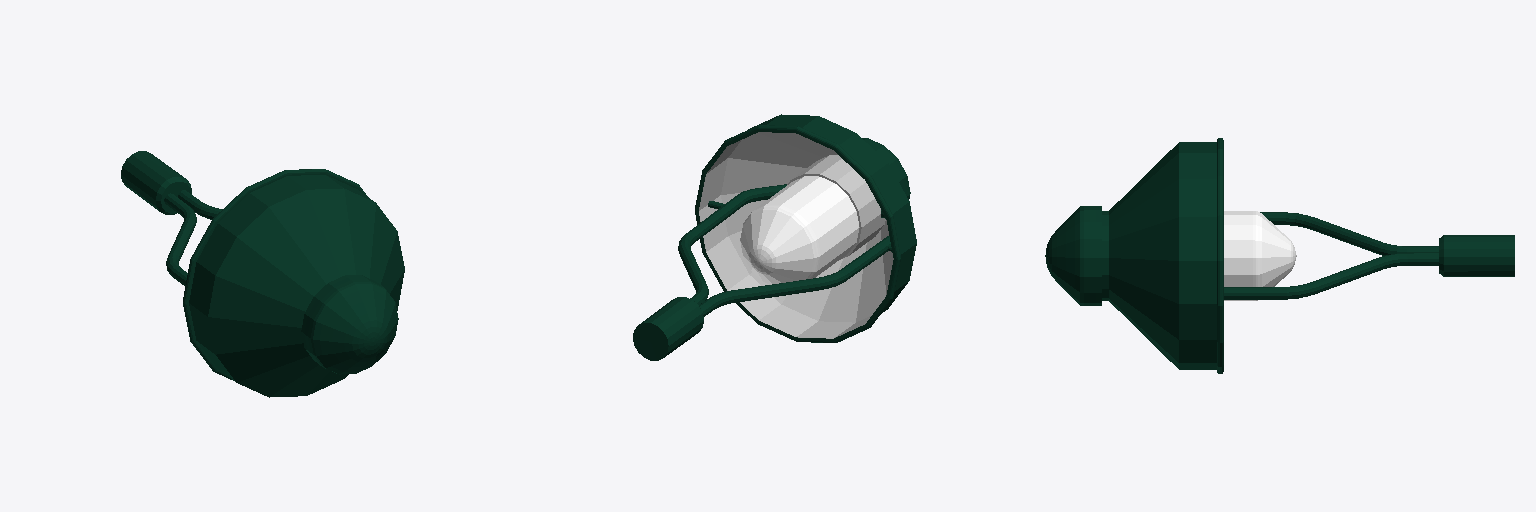
The picture shows the model from 3 angles: view 1: azimuth 30°, elevation 25°; view 2: azimuth 150°, elevation 25°; view 3: azimuth 270°, elevation 25°; orthographic projection.
Parts seen in each view (by area): view 1: BezierCurve.001; view 2: BezierCurve.001; view 3: BezierCurve.001.
Part boxes in pixels (bbox=[...]): BezierCurve.001: bbox=[121, 151, 404, 397]; BezierCurve.001: bbox=[633, 114, 916, 360]; BezierCurve.001: bbox=[1045, 138, 1514, 373].
Bounding box in the file's own units: 0.5162 × 0.5162 × 1.02.
3 materials, 1 textured.